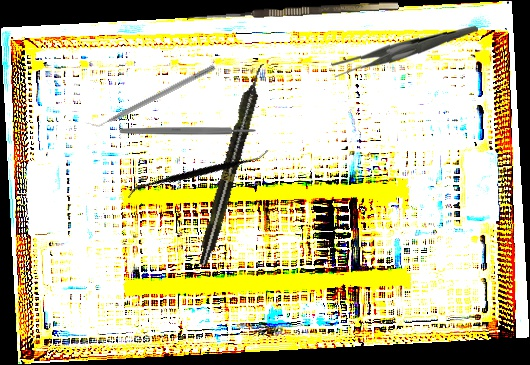Chopper: (84, 57, 217, 134)
Dressing Forceps: (330, 21, 478, 82)
Handpiece: (194, 60, 270, 268)
Hook Surgical: (186, 1, 400, 33)
Scalpel Handle: (119, 127, 256, 135)
Spatula Surgical: (126, 101, 270, 247)
